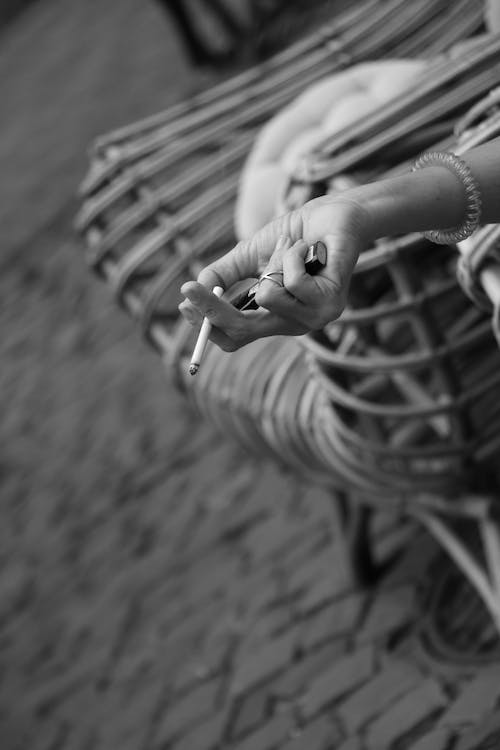cigarette: (185, 284, 224, 379)
